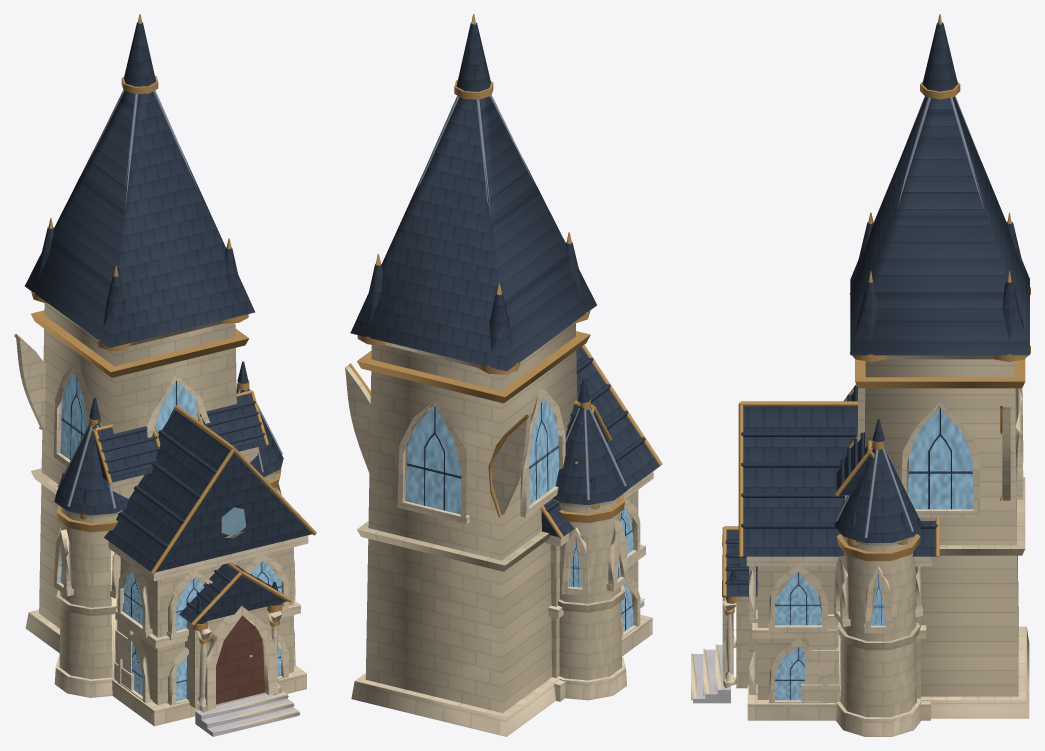
Rendered from angelic-tower-distant.glb.
3 views of the same model, side by side, from view 1: azimuth 30°, elevation 25°; view 2: azimuth 150°, elevation 25°; view 3: azimuth 270°, elevation 25° (orthographic). The views are drawn at different scales.
Size of the model in its own units: 4.55 by 12.54 by 5.8.
10 materials, 10 textured.
